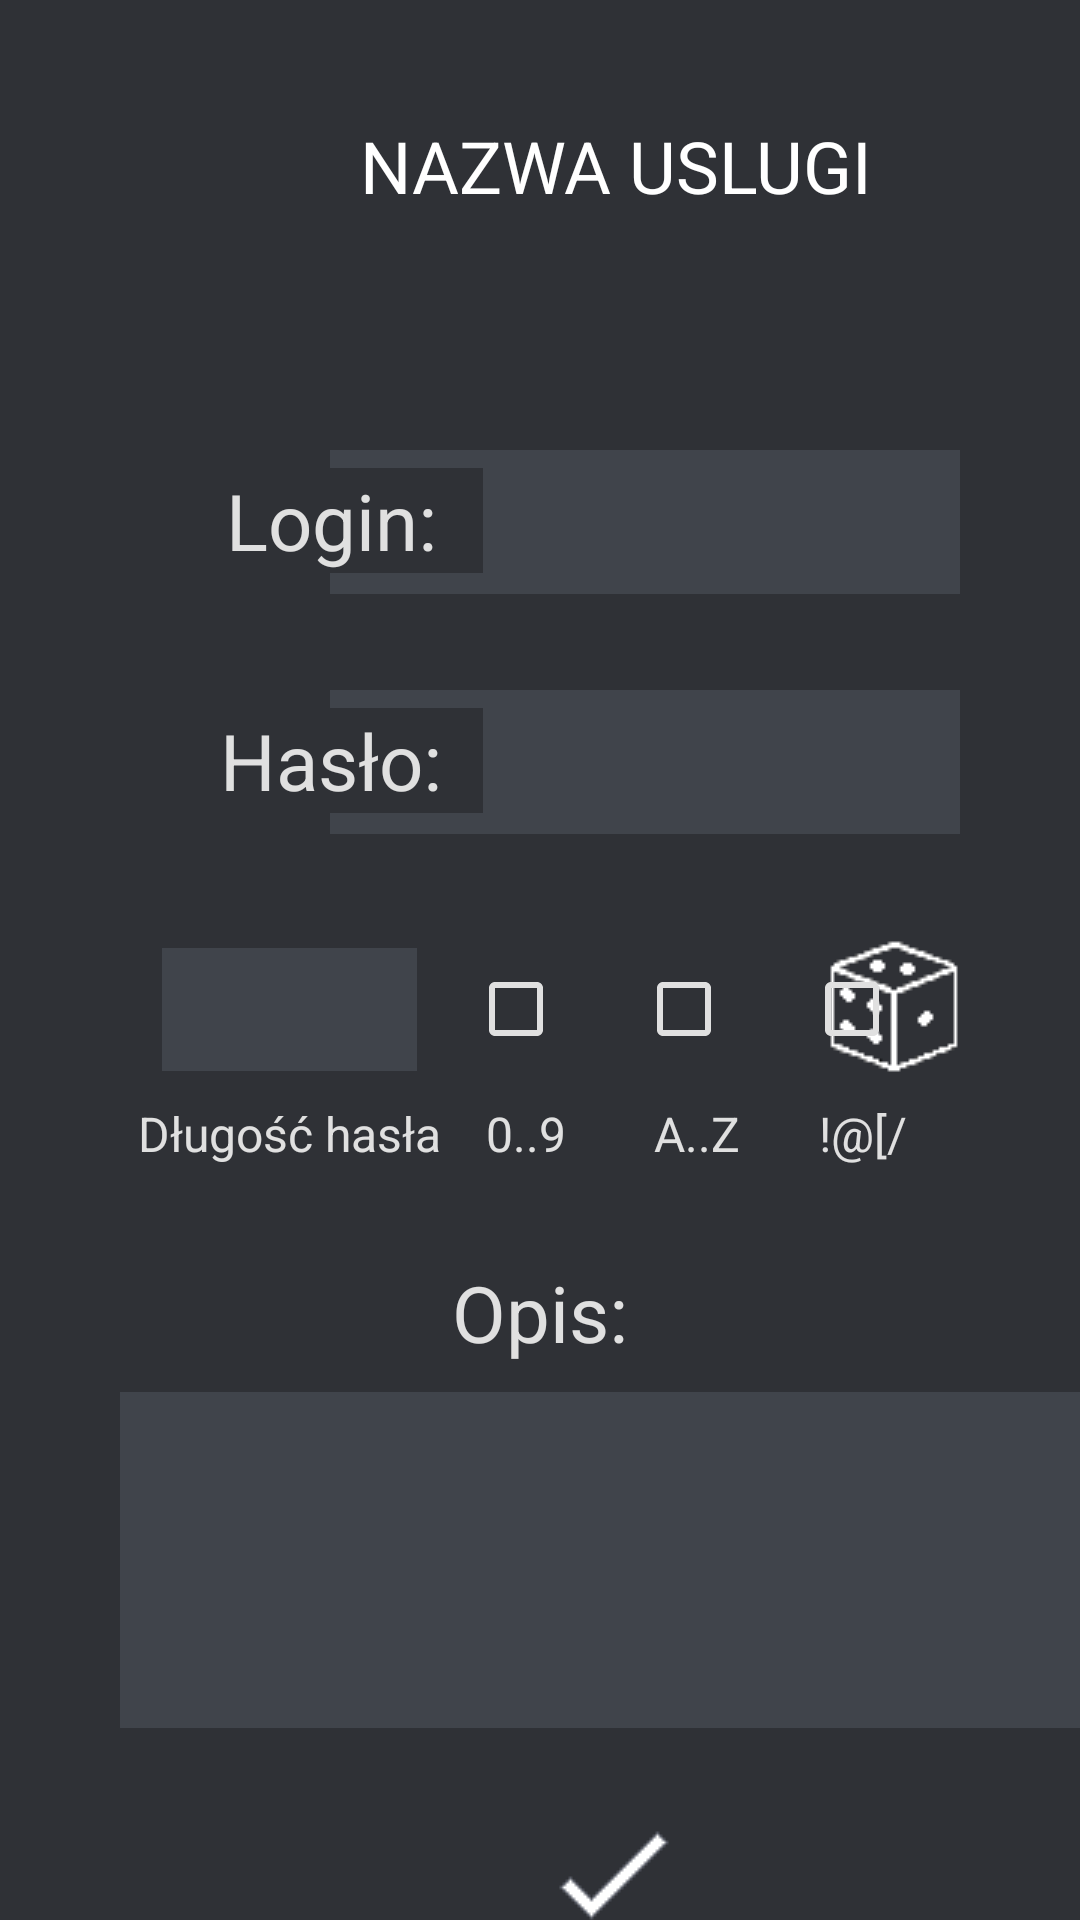

Named icons in this screenshot (1080w x 1920h) and their bounding boxes, (x1, y1, x2, y2):
generuj: (825, 941, 958, 1072)
